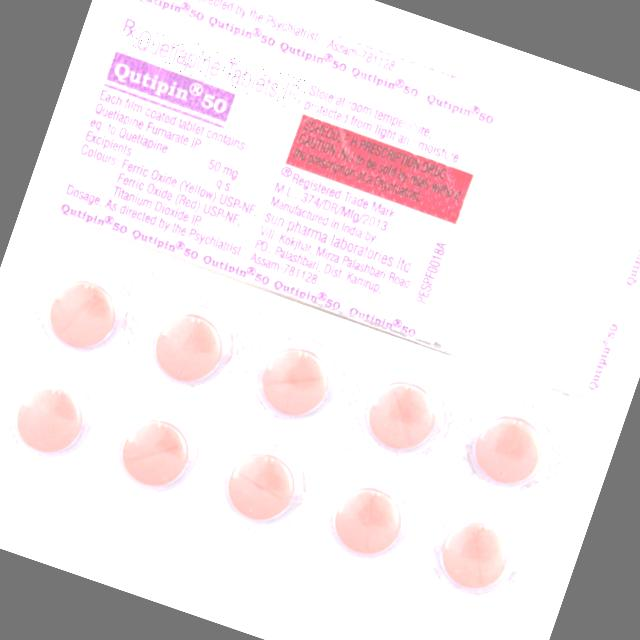Medicine-name: (125, 23, 311, 114)
